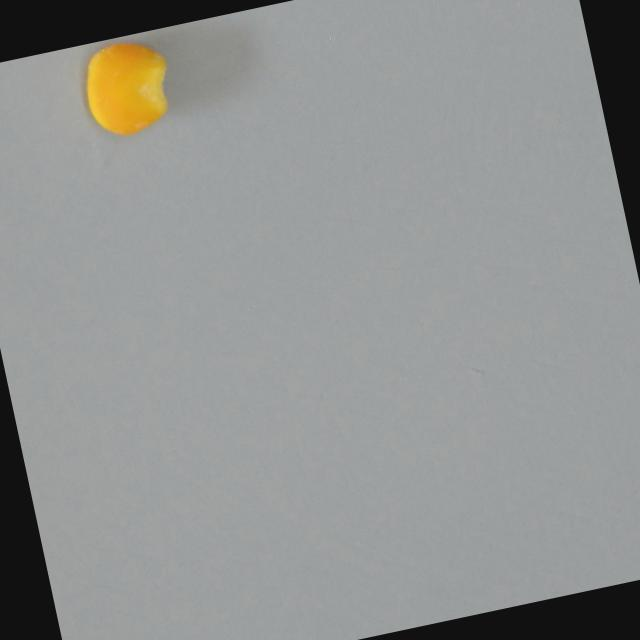no_canjicado: (57, 23, 200, 155)
